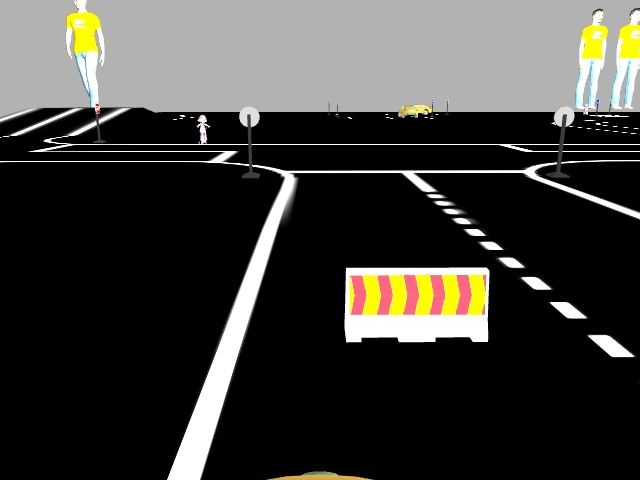ClosedRoadStand: (346, 267, 489, 342)
